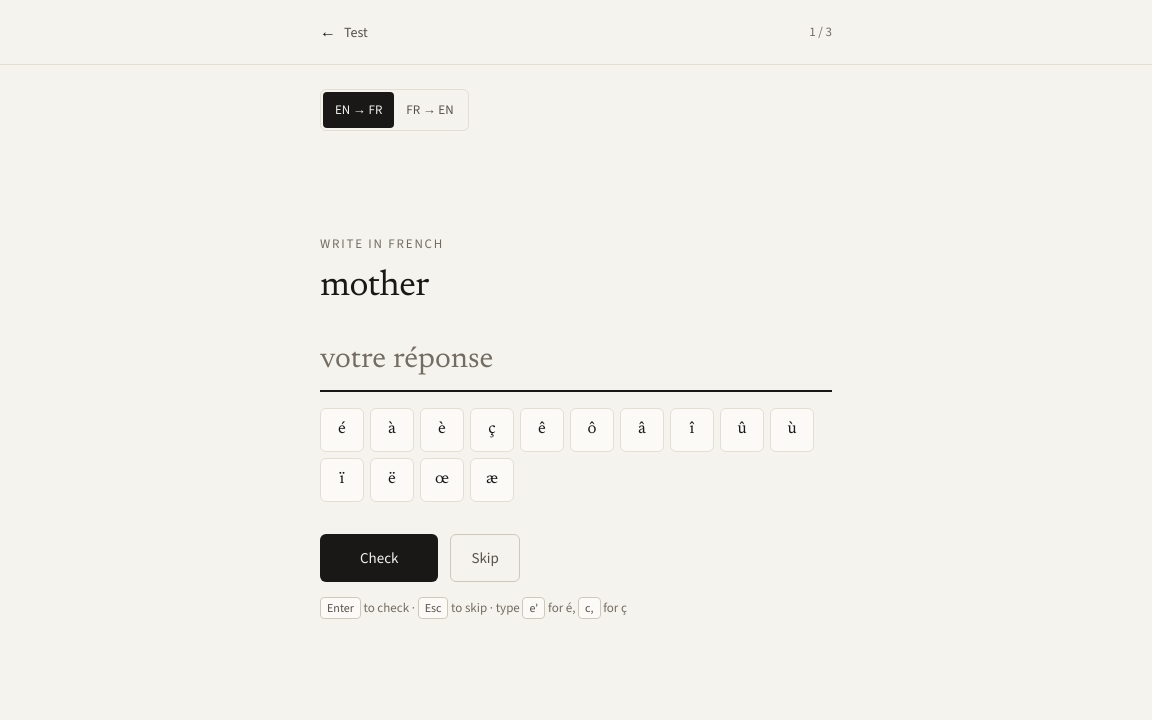
Test: Quiz › accepts a correct answer and advances
Type "la mère" into the field named "your answer". click: x=576, y=367
box: [320,342,832,392]
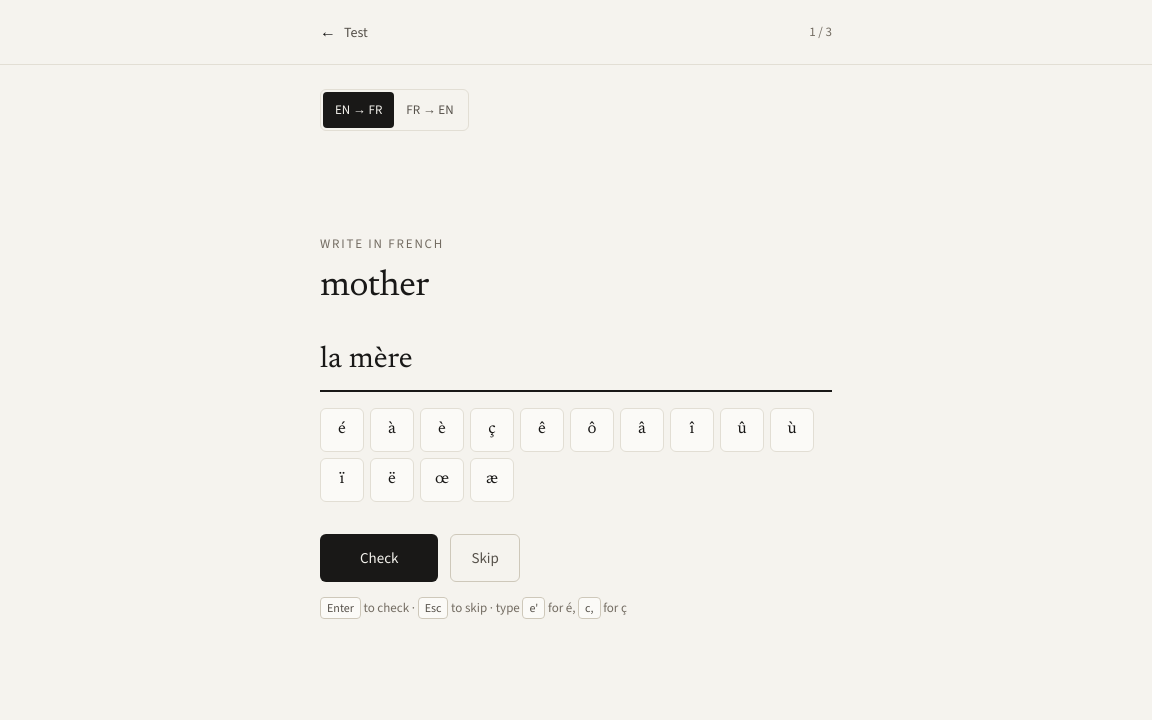
Click the button "Check". click: x=379, y=558
box: [320,534,438,582]
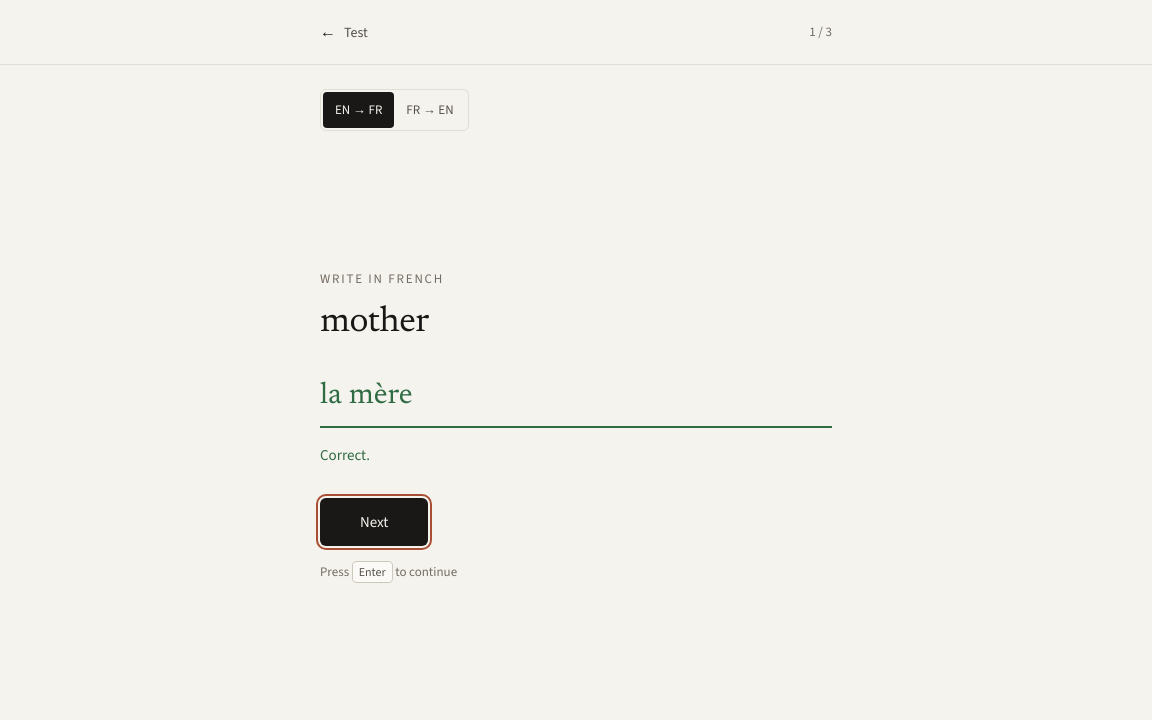
Expected: the text "1 / 3" is shown, [809,22,832,42]
Result: the text "Correct." is shown at [320,445,370,465]
Click the button "Next". click: x=374, y=522
box: [320,498,428,546]
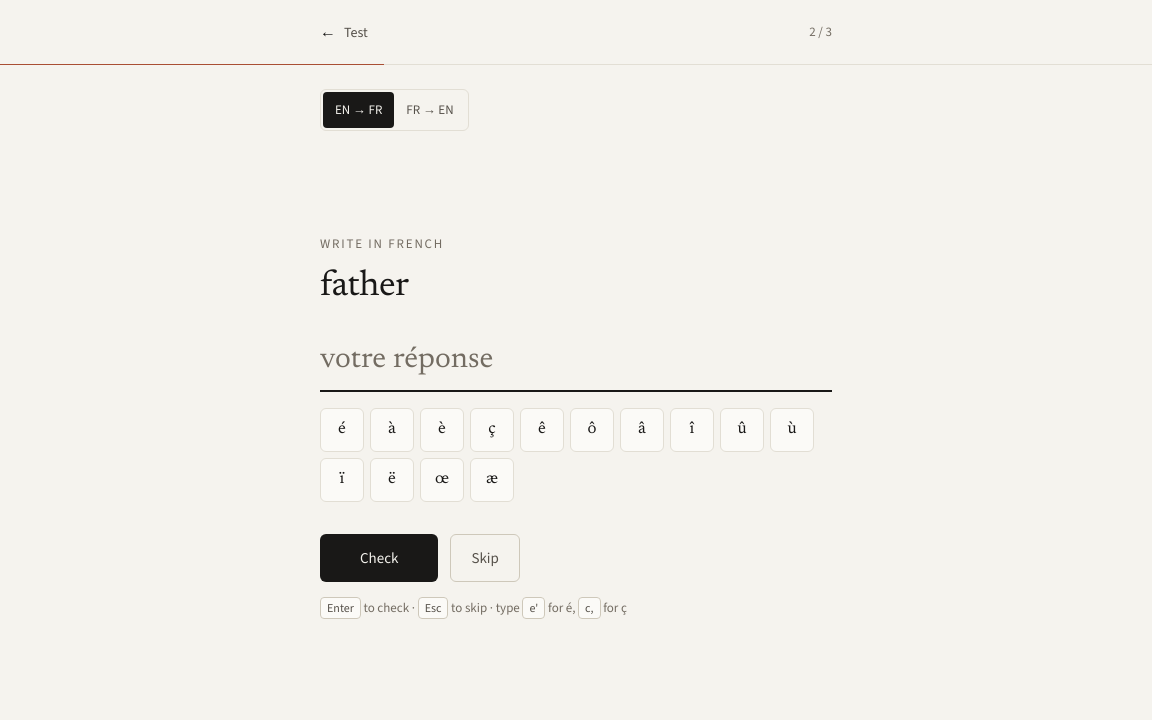
Result: the button "Check" is shown at [320,534,438,582]
